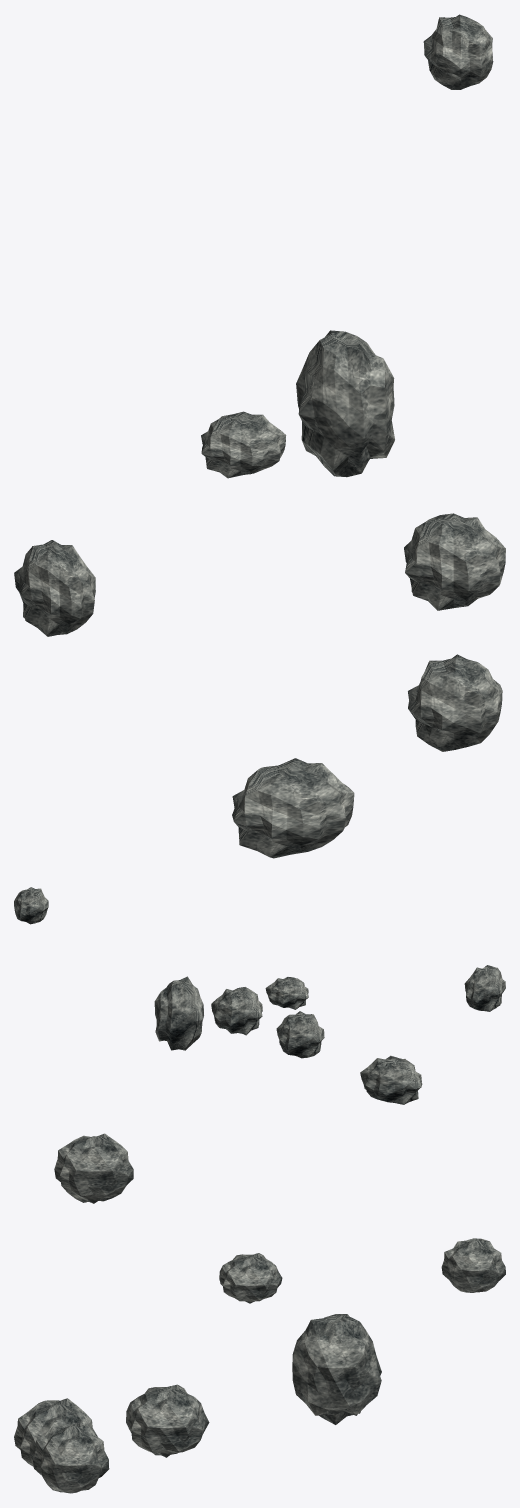
File: cluster_01.glb
3 views of the same model, one above another, from view 1: azimuth 30°, elevation 25°; view 2: azimuth 150°, elevation 25°; view 3: azimuth 270°, elevation 25° (orthographic). The views are drawn at different scales.
Visible parts, largest first — view 1: cluster; view 2: cluster; view 3: cluster.
Part boxes in pixels (<box>): cluster: <box>14,14,505,858</box>; cluster: <box>14,887,505,1104</box>; cluster: <box>14,1133,505,1493</box>.
Bounding box in the file's own units: 2.76 × 1.91 × 2.17.
Materials: 1 (1 with a texture image).
